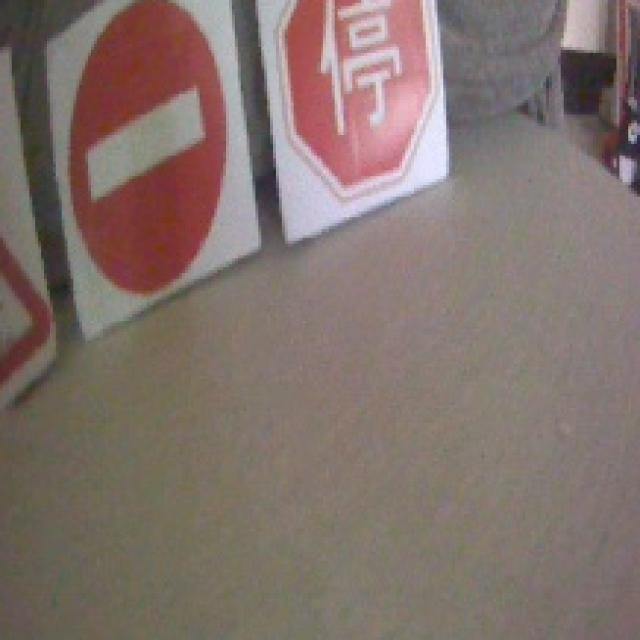DoNotEnterSign: (64, 0, 229, 299)
